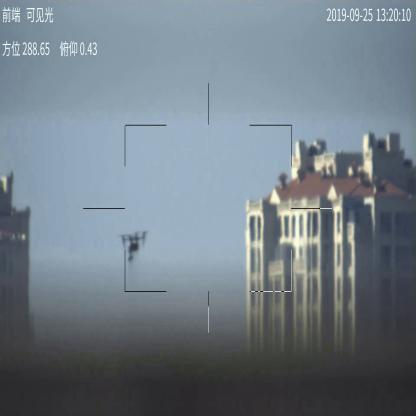uav: (120, 229, 147, 262)
